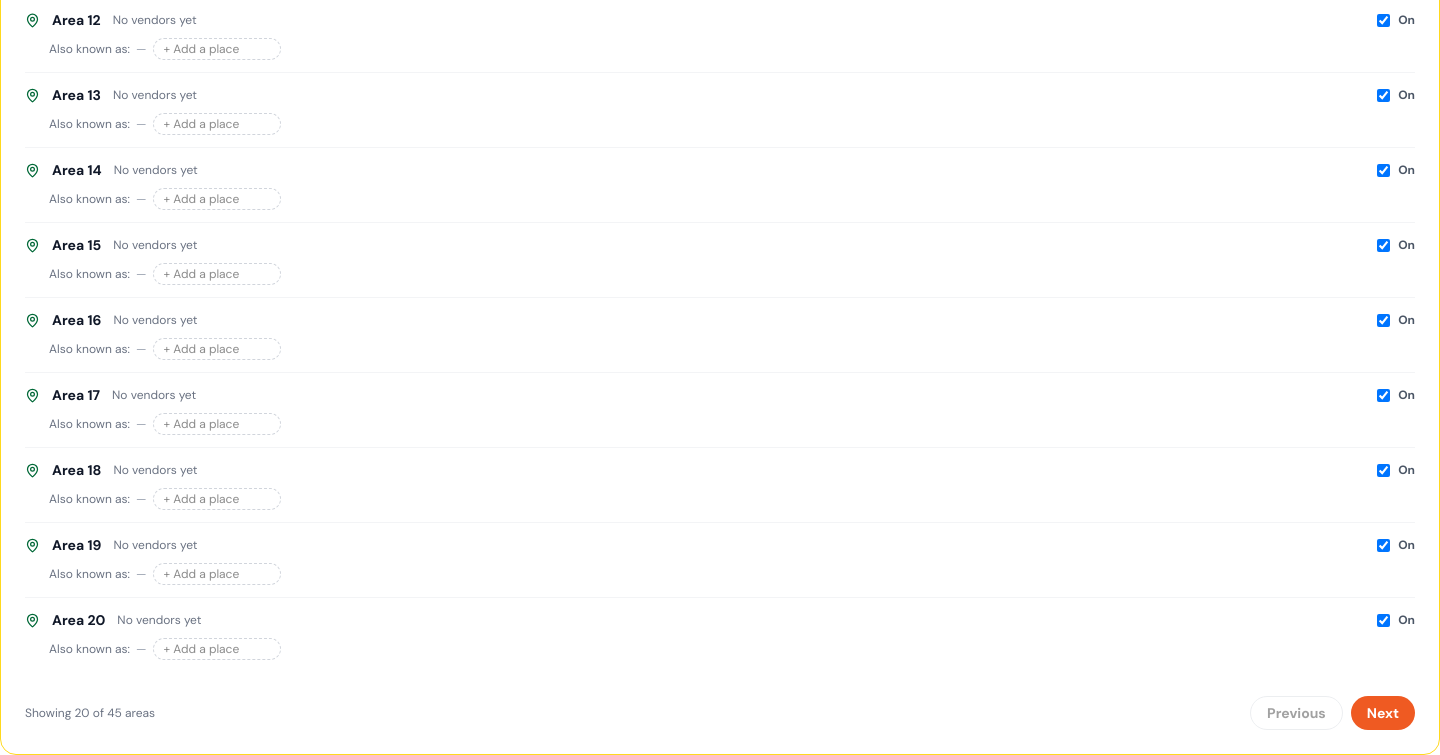
Scenario: Areas › pages › goes back to the first page when searching
(page scrolled)
Click the button "Next" at (1383,713), box [1351, 696, 1415, 730]
(page scrolled)
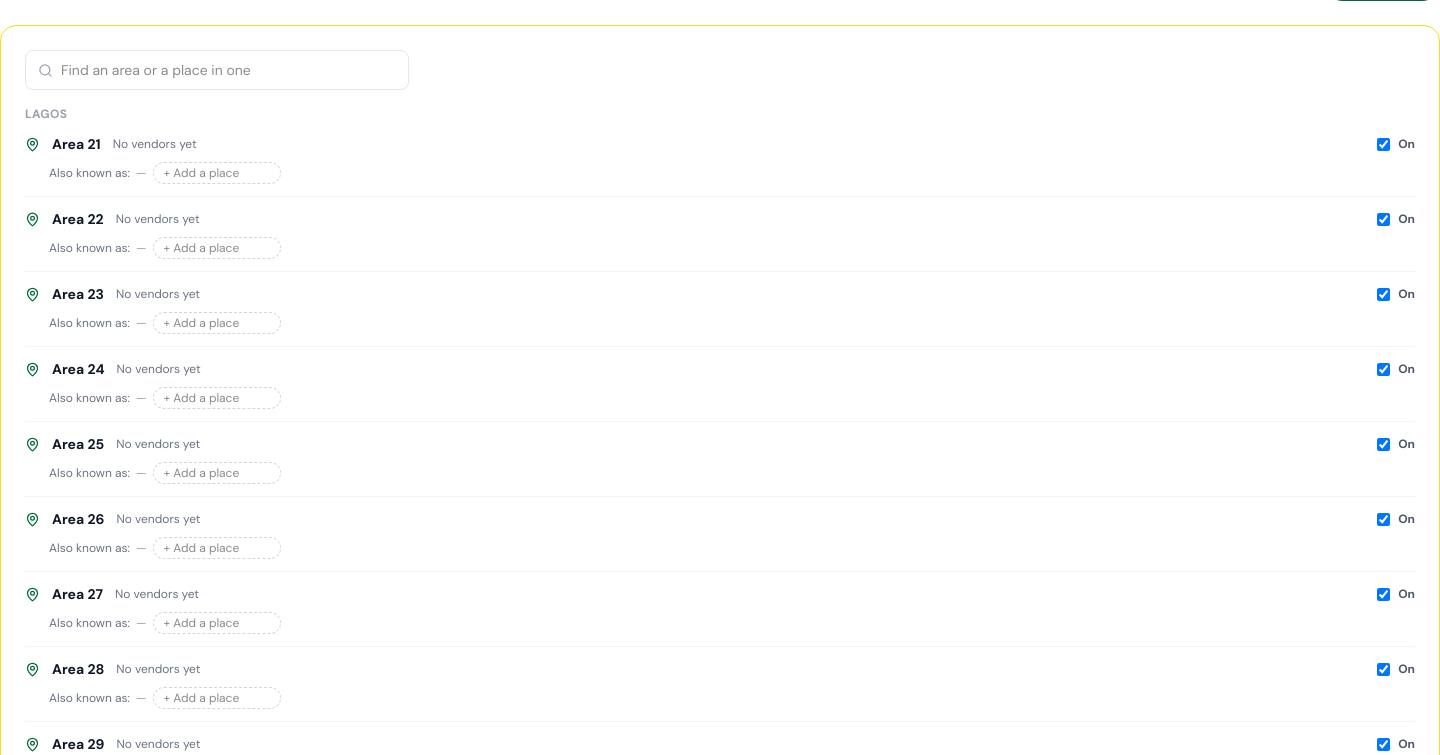
Type "Area 0" into the field labelled "Find an area" at (228,70), box [61, 60, 396, 80]
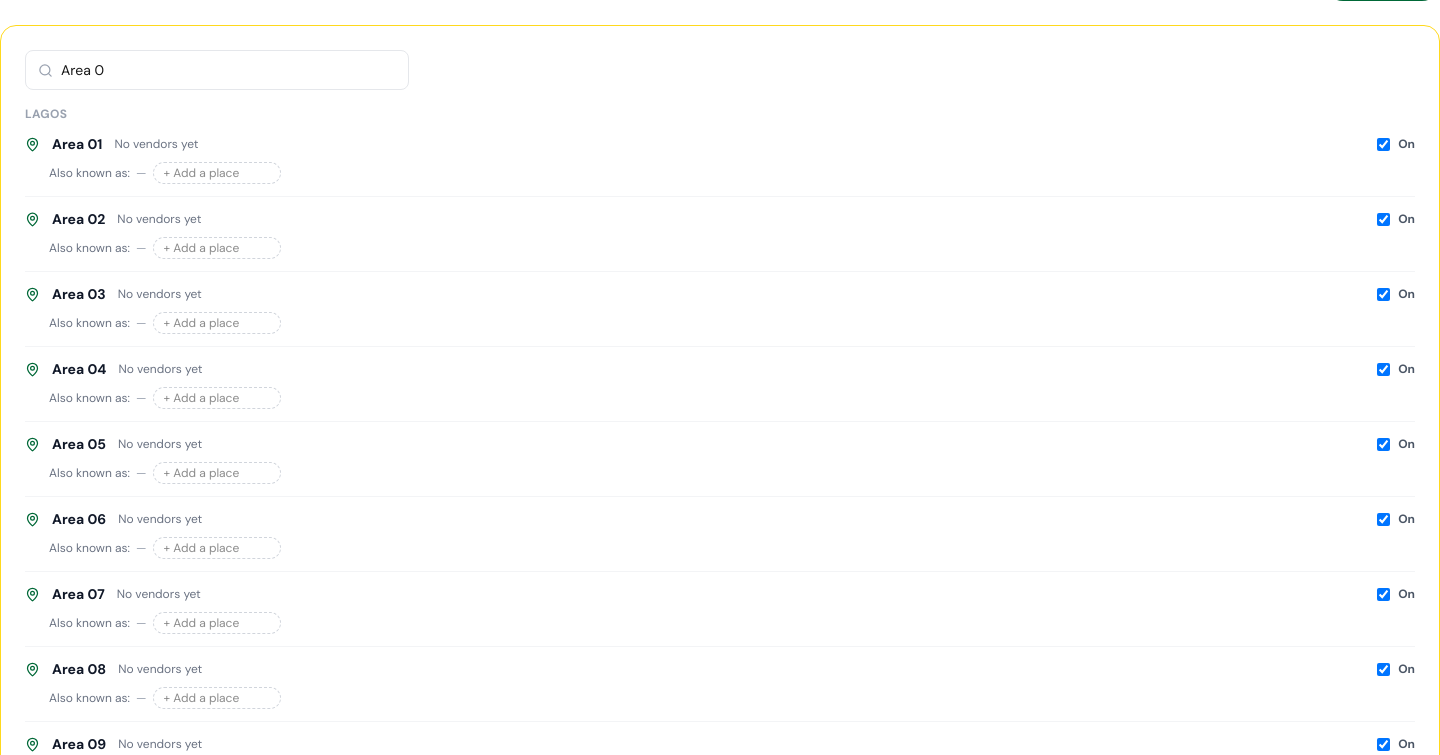
Expected: the text "Showing" is not shown
Result: the button "Area 01" is shown at [52, 134, 102, 154]
